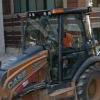Tractor: (8, 9, 100, 100)
